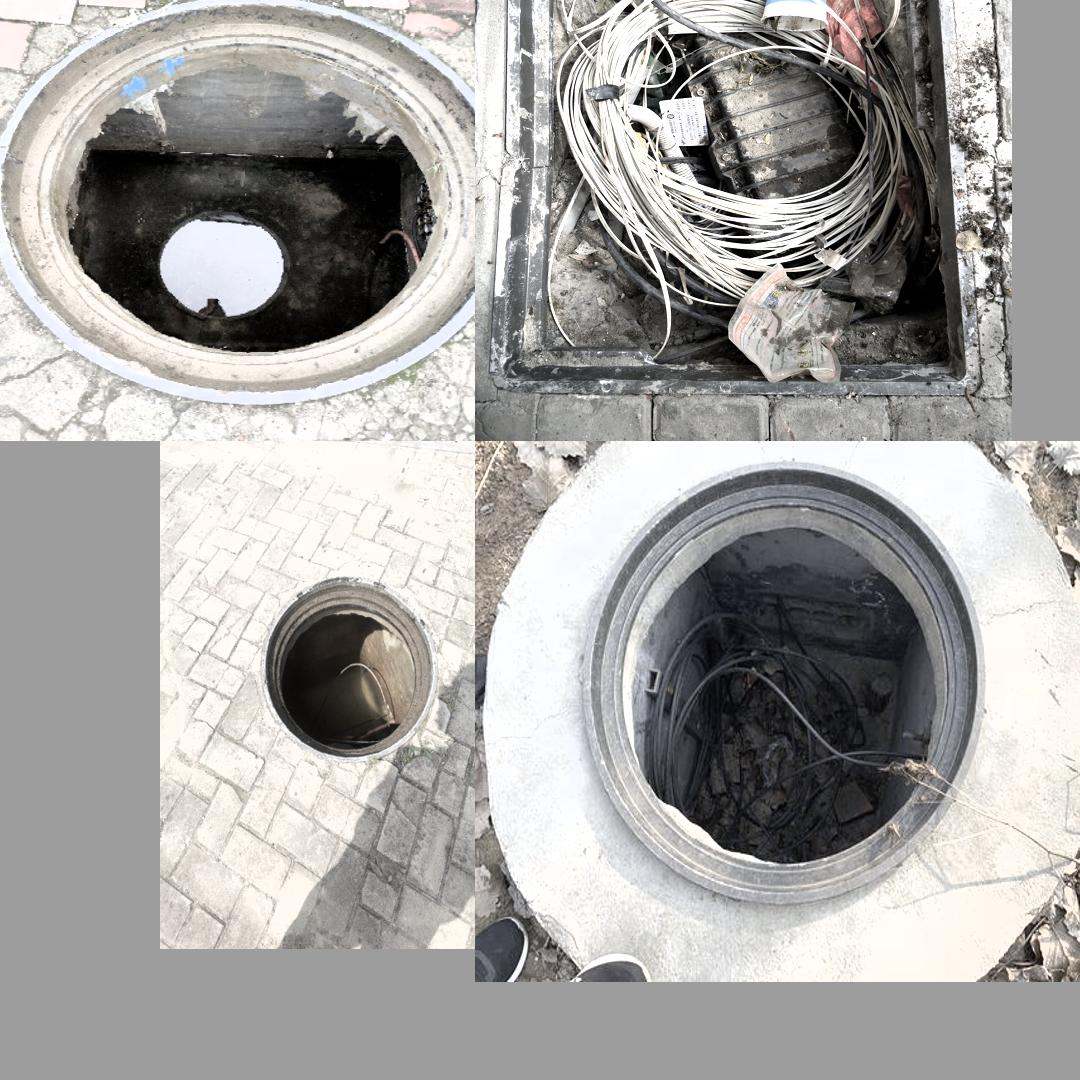lose: (493, 449, 1066, 970), (488, 0, 978, 401), (0, 0, 471, 404), (259, 578, 444, 762)
